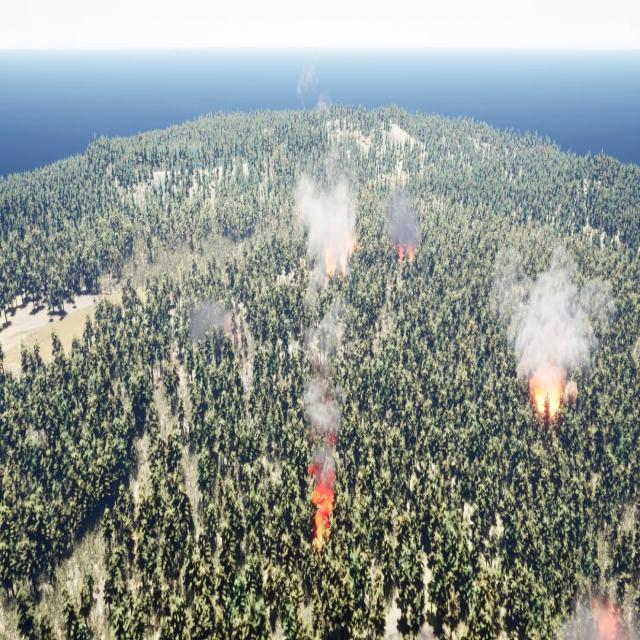fire: (529, 371, 564, 416), (309, 493, 334, 546)
smoke: (290, 162, 356, 478), (497, 246, 611, 395), (547, 596, 640, 639), (391, 193, 423, 260), (189, 301, 236, 346)
